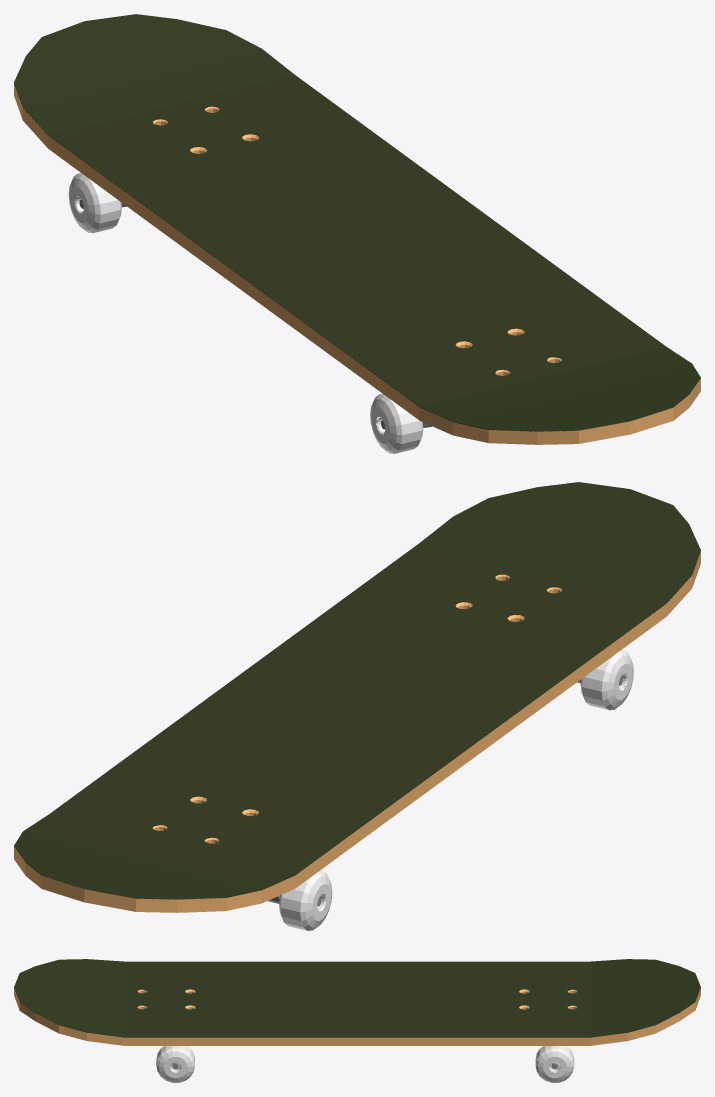
Rendered from skateboard-optimized.glb.
The picture shows the model from 3 angles, top to bottom: view 1: azimuth 30°, elevation 25°; view 2: azimuth 150°, elevation 25°; view 3: azimuth 270°, elevation 25°; orthographic projection. The views are drawn at different scales.
Visible parts, largest first — view 1: shape.001_16, shape_0, Cylinder.004_10, Cylinder.008_15; view 2: shape.001_16, shape_0, Cylinder.008_15, Cylinder.004_10; view 3: shape.001_16, shape_0, Cylinder.007_14, Cylinder.002_8.
Part boxes in pixels (box(x1,y1,x2,y2)): shape.001_16: box(14, 14, 700, 431); shape_0: box(14, 83, 700, 444); Cylinder.004_10: box(370, 393, 423, 453); Cylinder.008_15: box(68, 173, 121, 233); shape.001_16: box(14, 482, 700, 899); shape_0: box(14, 551, 700, 912); Cylinder.008_15: box(279, 870, 332, 930); Cylinder.004_10: box(580, 650, 633, 710); shape.001_16: box(14, 959, 700, 1037); shape_0: box(14, 988, 700, 1045); Cylinder.007_14: box(535, 1046, 574, 1082); Cylinder.002_8: box(156, 1046, 194, 1082).
Size of the model in its own units: 0.9426 by 0.3528 by 3.61.
